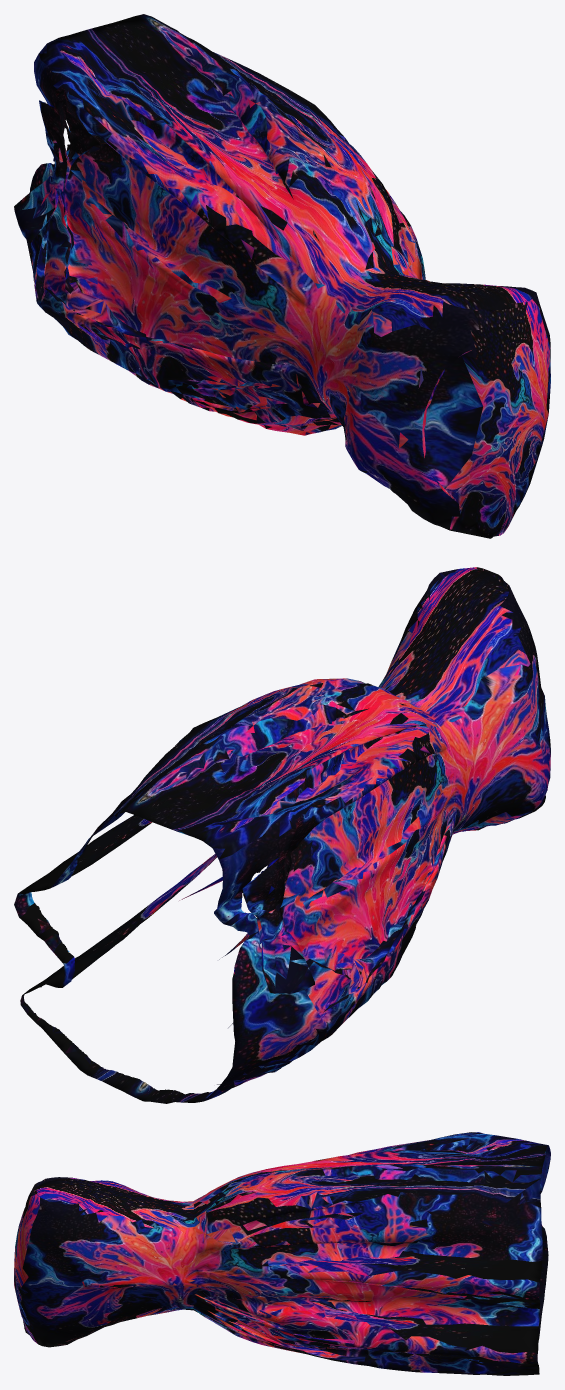
File: si_nmah_feedsack-dress.glb
3 views of the same model, one above another, from view 1: azimuth 30°, elevation 25°; view 2: azimuth 150°, elevation 25°; view 3: azimuth 270°, elevation 25° (orthographic). The views are drawn at different scales.
Visible parts, largest first — view 1: A; view 2: A; view 3: A.
Boxes of the visible parts, <box> form: A: <box>14,14,550,538</box>; A: <box>14,567,550,1103</box>; A: <box>14,1132,550,1375</box>.
Size of the model in its own units: 0.8076 by 0.855 by 2.
Materials: 1 (1 with a texture image).
